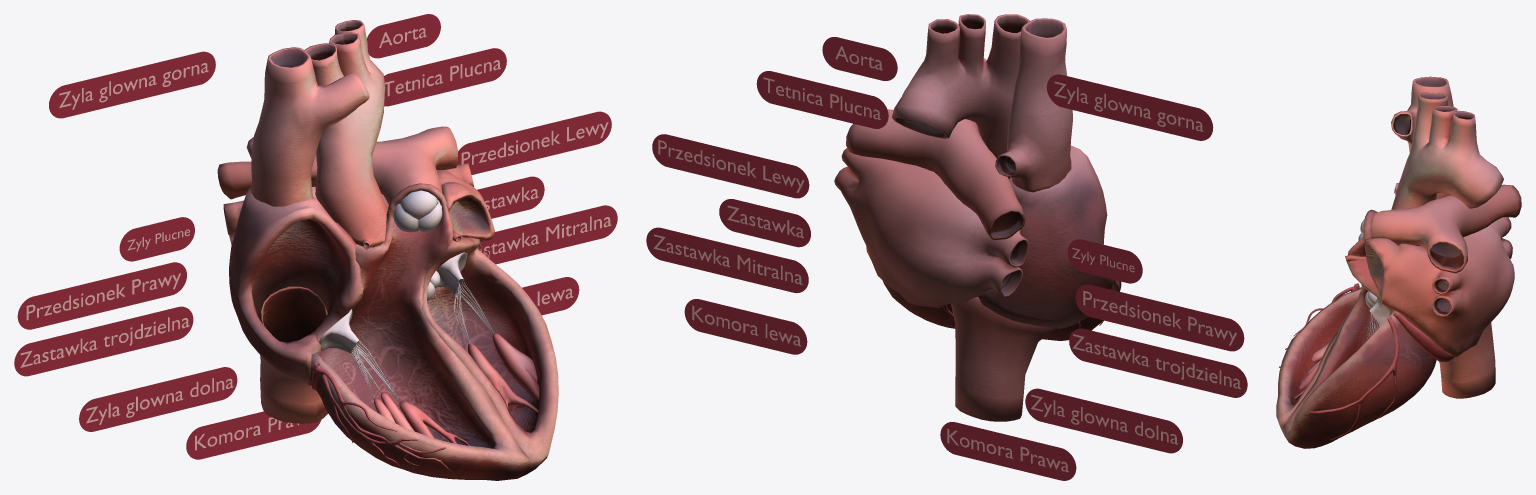
File: heart.glb
3 views of the same model, side by side, from view 1: azimuth 30°, elevation 25°; view 2: azimuth 150°, elevation 25°; view 3: azimuth 270°, elevation 25° (orthographic). The views are drawn at different scales.
Visible parts, largest first — view 1: Komora Prawa, Przedsionek Prawy, Komora lewa, Zyla glowna gorna, Aorta, Zyla glowna dolna, Zyly Plucne, Tetnica Plucna, Zastawka trojdzielna, Zastawka Mitralna, Zastawka, v; view 2: Zyly Plucne, Przedsionek Prawy, Aorta, Zyla glowna gorna, Zyla glowna dolna, Tetnica Plucna, Zastawka trojdzielna, Zastawka Mitralna, Komora Prawa, Komora lewa, Zastawka; view 3: Komora lewa, Zyly Plucne, Aorta, Tetnica Plucna, Komora Prawa, Zyla glowna dolna, v, Zyla glowna gorna, Zastawka Mitralna.
Part boxes in pixels (x1,y1,x2,y2): Komora Prawa: [186, 183, 530, 480]; Przedsionek Prawy: [17, 187, 363, 382]; Komora lewa: [421, 235, 579, 477]; Zyla glowna gorna: [49, 47, 369, 206]; Aorta: [304, 14, 461, 249]; Zyla glowna dolna: [79, 286, 328, 431]; Zyly Plucne: [119, 111, 611, 261]; Tetnica Plucna: [217, 48, 506, 219]; Zastawka trojdzielna: [14, 306, 400, 401]; Zastawka Mitralna: [436, 205, 617, 343]; Zastawka: [393, 176, 544, 301]; v: [307, 244, 489, 471]; Zyly Plucne: [652, 134, 1142, 308]; Przedsionek Prawy: [978, 145, 1244, 351]; Aorta: [822, 14, 1029, 178]; Zyla glowna gorna: [995, 18, 1213, 192]; Zyla glowna dolna: [951, 297, 1182, 453]; Tetnica Plucna: [756, 71, 1025, 239]; Zastawka trojdzielna: [1069, 328, 1247, 397]; Zastawka Mitralna: [646, 227, 808, 293]; Komora Prawa: [940, 280, 1120, 480]; Komora lewa: [684, 281, 953, 354]; Zastawka: [719, 199, 810, 247]; Komora lewa: [1281, 259, 1436, 448]; Zyly Plucne: [1364, 217, 1514, 357]; Aorta: [1345, 92, 1503, 261]; Tetnica Plucna: [1371, 184, 1521, 273]; Komora Prawa: [1276, 209, 1377, 428]; Zyla glowna dolna: [1438, 322, 1495, 398]; v: [1279, 283, 1454, 440]; Zyla glowna gorna: [1391, 76, 1453, 199]; Zastawka Mitralna: [1367, 298, 1389, 339].
Size of what is drawn, in the model's own units: 9.52 by 6.28 by 4.26.
Materials: 11 (11 with a texture image).
